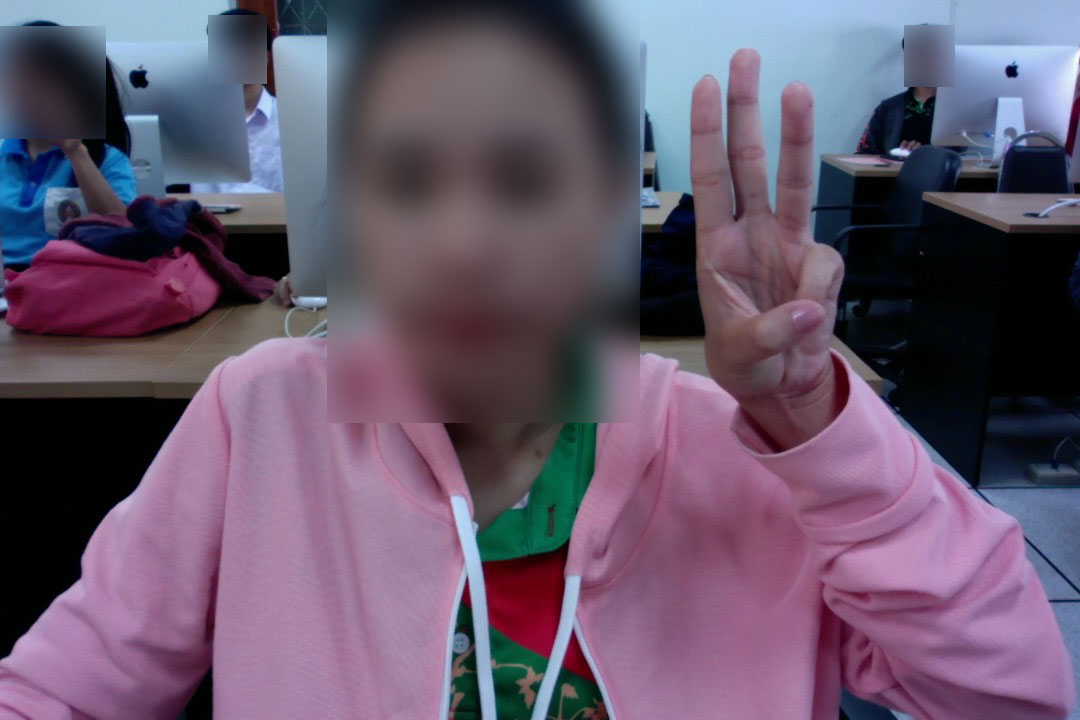wor: (678, 37, 848, 412)
